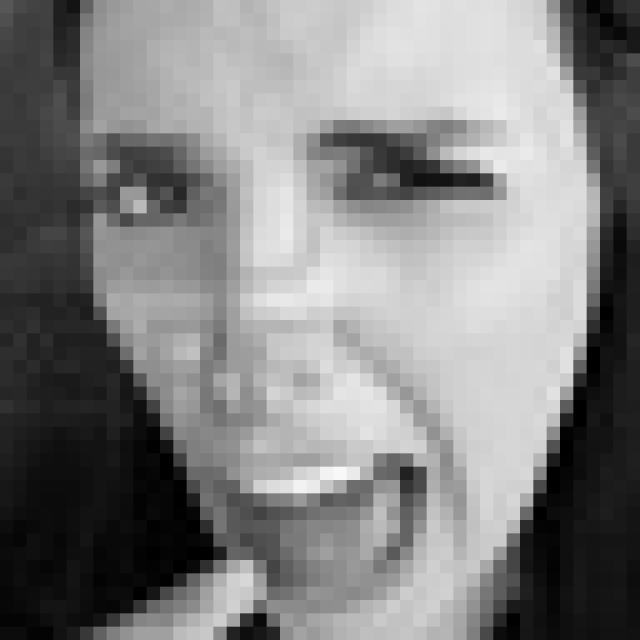disgust: (79, 102, 535, 625)
